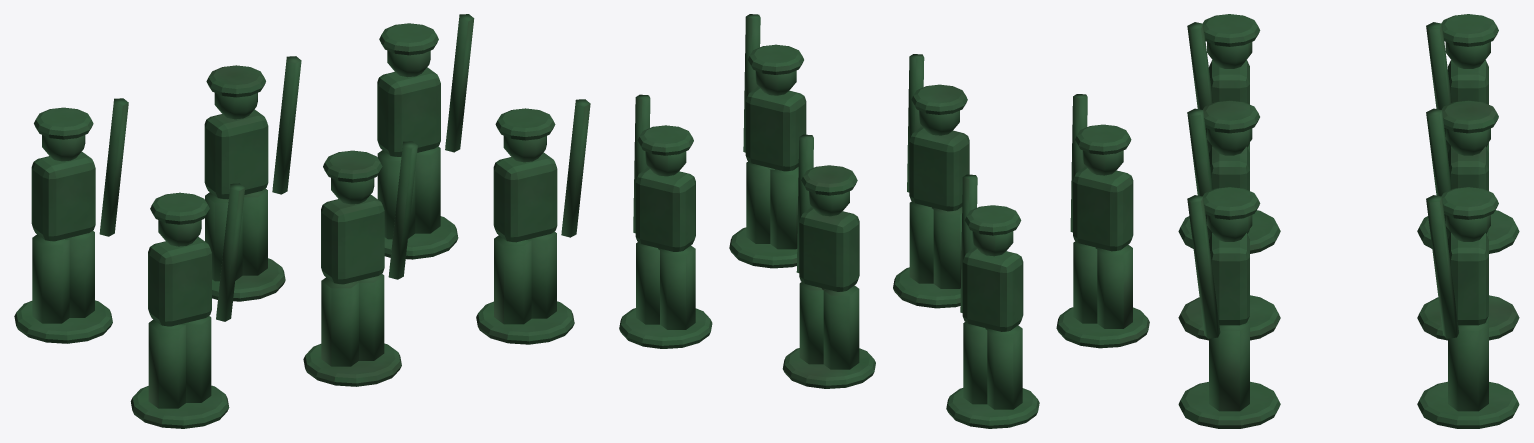
Rendered from T20_toy_soldiers_group.glb.
3 views of the same model, side by side, from view 1: azimuth 30°, elevation 25°; view 2: azimuth 150°, elevation 25°; view 3: azimuth 270°, elevation 25° (orthographic). The views are drawn at different scales.
Parts seen in each view (by area): view 1: T20_toy_soldiers_group; view 2: T20_toy_soldiers_group; view 3: T20_toy_soldiers_group.
Part boxes in pixels (x1,y1,x2,y2): T20_toy_soldiers_group: [14, 14, 590, 428]; T20_toy_soldiers_group: [619, 14, 1149, 428]; T20_toy_soldiers_group: [1178, 14, 1519, 428].
Size of the model in its own units: 0.3 by 0.1499 by 0.199.
Materials: 1 (1 with a texture image).
